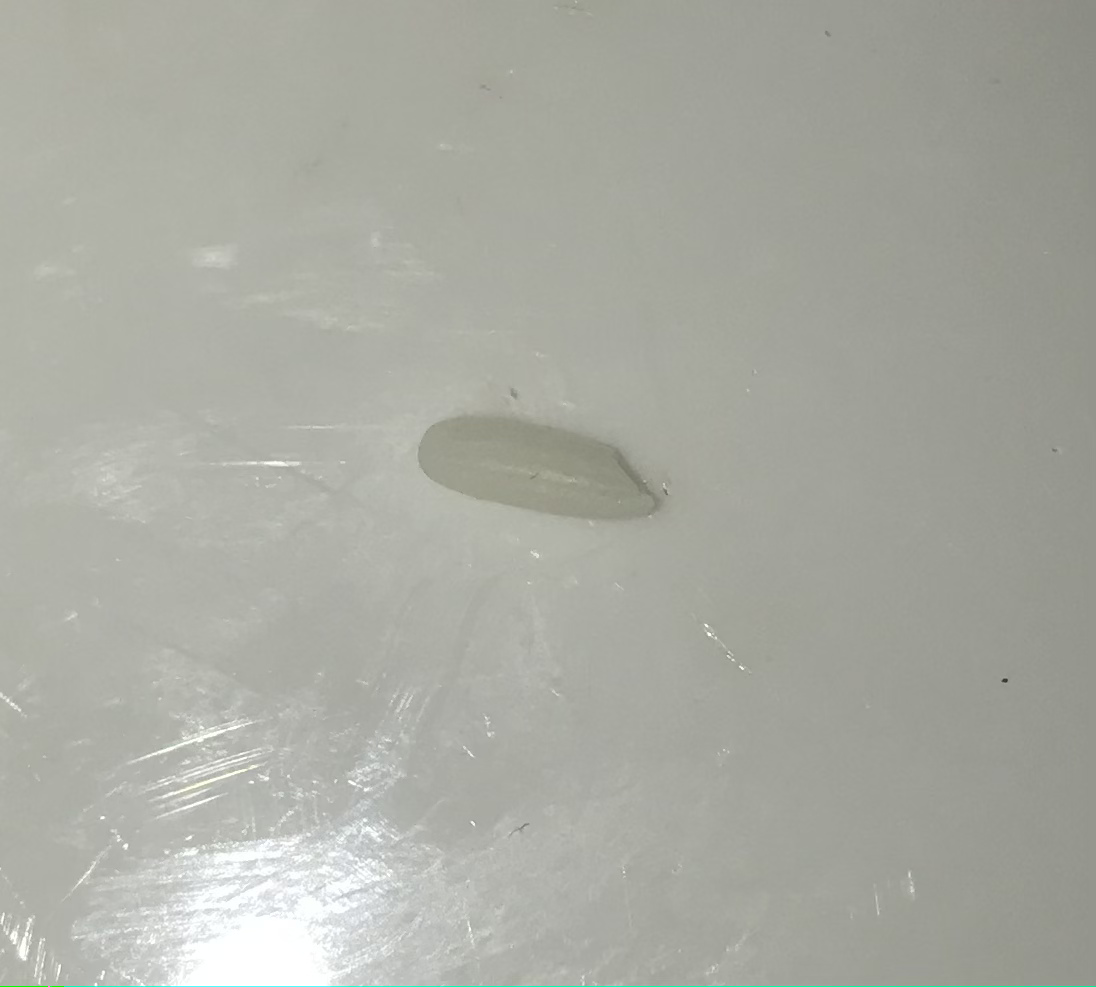Gao Lai Sua: (408, 401, 680, 542)
